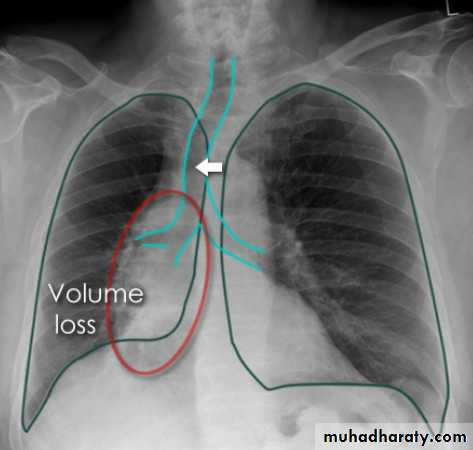telestration: (219, 81, 446, 432), (20, 88, 208, 435), (136, 59, 267, 270), (103, 189, 213, 380), (43, 279, 149, 337), (195, 157, 226, 176)
